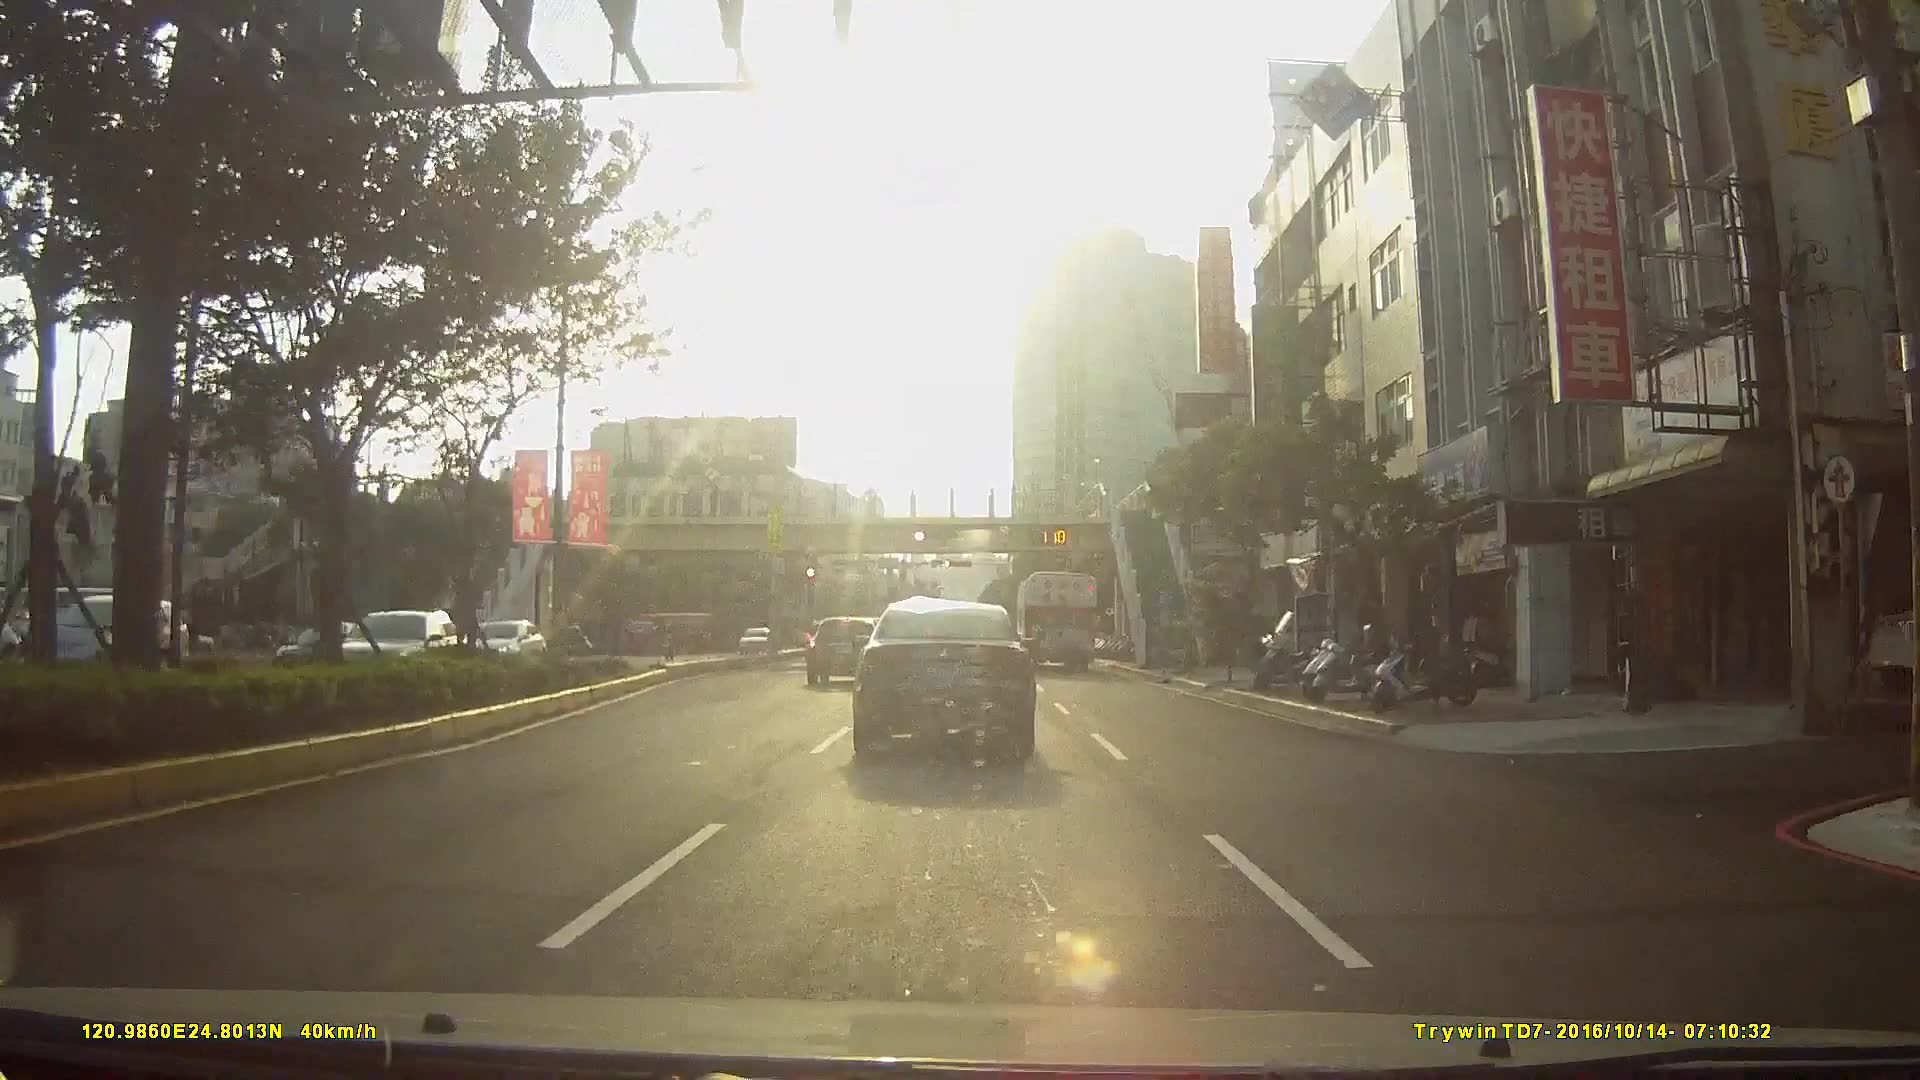vehicle: (851, 597, 1036, 756), (33, 583, 185, 671), (1013, 564, 1102, 669), (803, 615, 880, 687), (735, 622, 771, 651)
